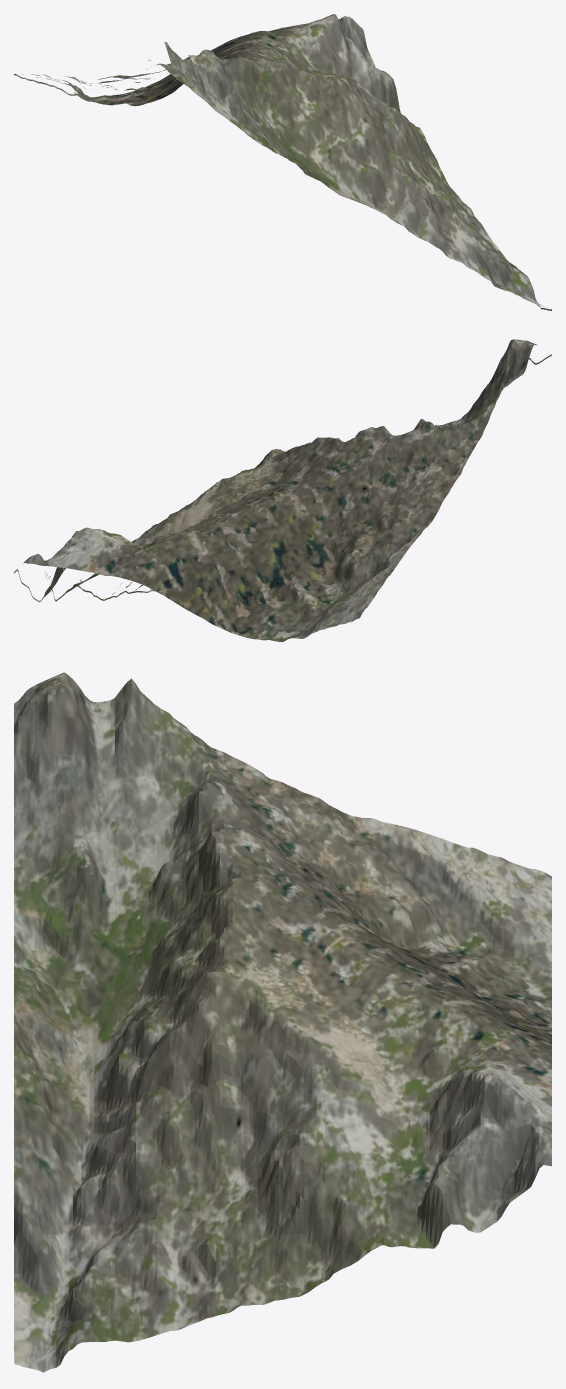
3 renders of one model, top to bottom at view 1: azimuth 30°, elevation 25°; view 2: azimuth 150°, elevation 25°; view 3: azimuth 270°, elevation 25°, orthographic. The views are drawn at different scales.
Size of the model in its own units: 250 by 230 by 241.
1 material, 1 textured.
